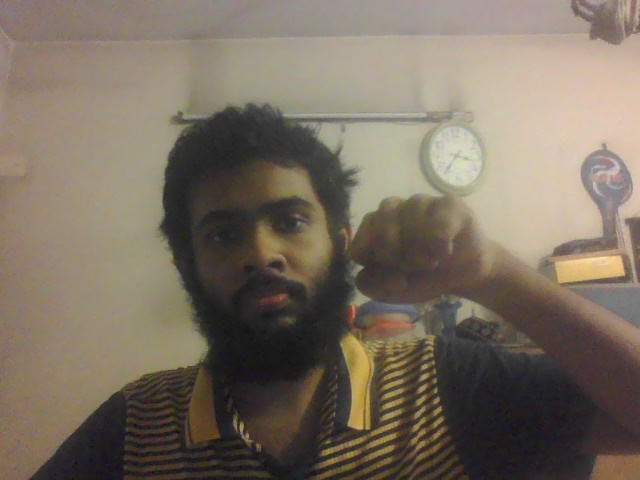Yes: (344, 191, 492, 310)
